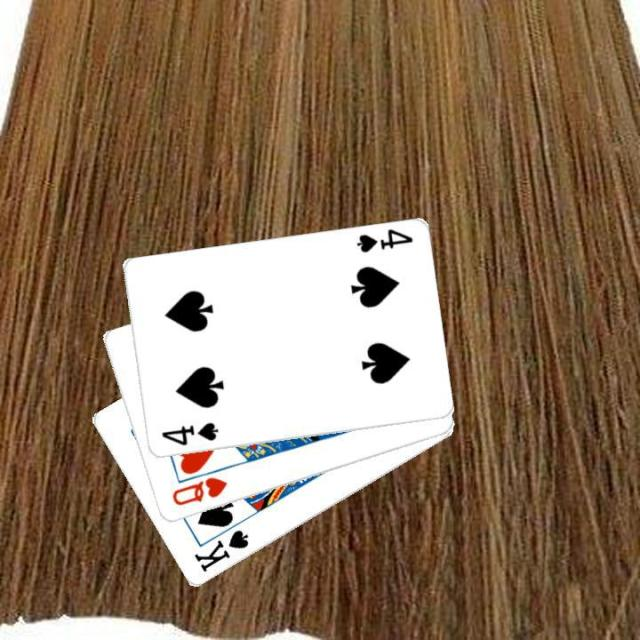4S: (158, 419, 220, 448), (352, 226, 414, 255)
KS: (190, 526, 251, 575)
QH: (168, 474, 229, 508)
